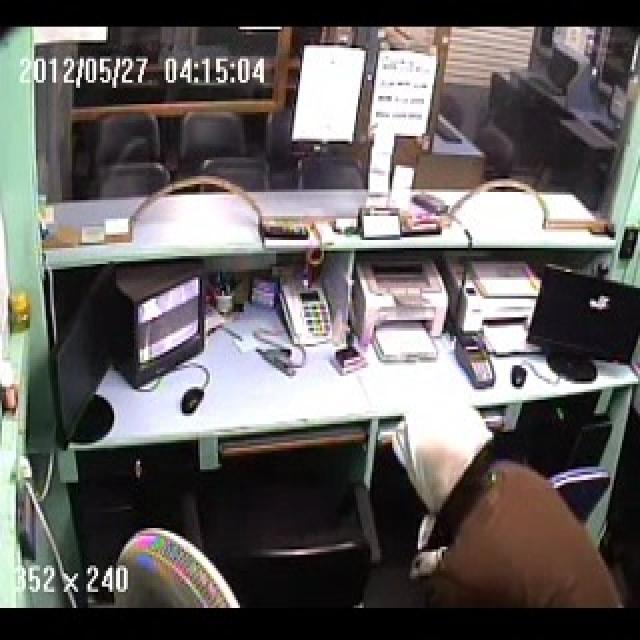thief: (372, 387, 610, 615)
